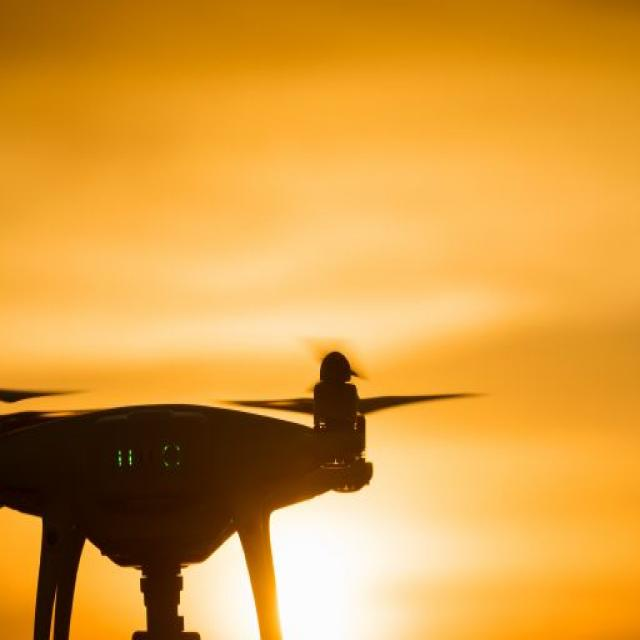drone: (0, 285, 471, 631)
